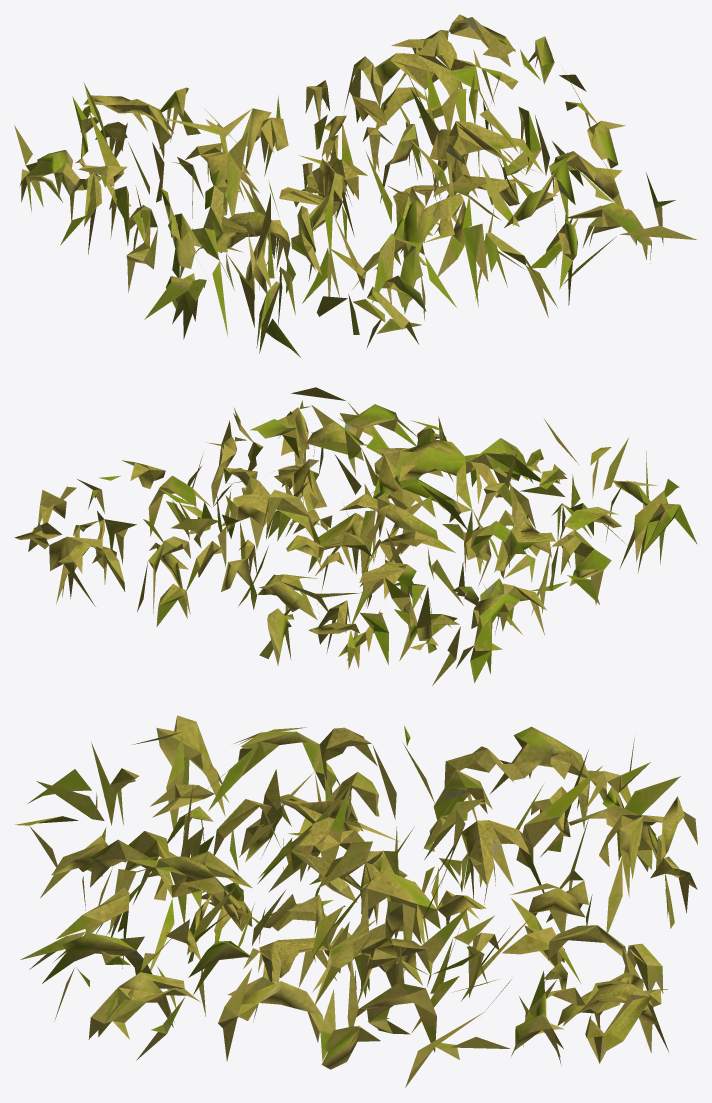
File: RicePatch.fbx
3 renders of one model, top to bottom at view 1: azimuth 30°, elevation 25°; view 2: azimuth 150°, elevation 25°; view 3: azimuth 270°, elevation 25°, orthographic. The views are drawn at different scales.
Parts seen in each view (by area): view 1: Mesh_0; view 2: Mesh_0; view 3: Mesh_0.
Boxes of the visible parts, x1,y1,x2,y2 form: Mesh_0: (14, 14, 696, 357); Mesh_0: (14, 387, 697, 685); Mesh_0: (15, 715, 697, 1087).
Size of the model in its own units: 183 by 29.61 by 168.
Materials: 1 (1 with a texture image).
